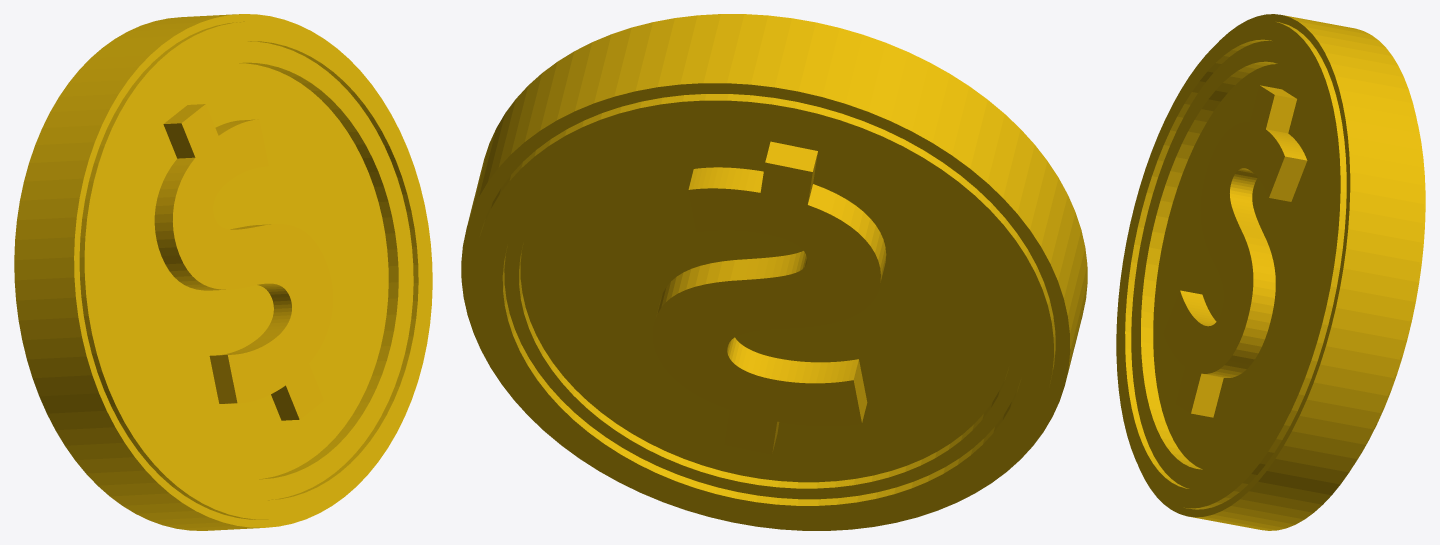
File: Coins2.glb
The picture shows the model from 3 angles, left to right: view 1: azimuth 30°, elevation 25°; view 2: azimuth 150°, elevation 25°; view 3: azimuth 270°, elevation 25°; orthographic projection. The views are drawn at different scales.
Parts seen in each view (by area): view 1: Cylinder, Curve; view 2: Cylinder, Curve.001; view 3: Cylinder, Curve.
Part boxes in pixels (left/top/right/bottom): Cylinder: left=14, top=14, right=432, bottom=530; Curve: left=154, top=104, right=332, bottom=420; Cylinder: left=461, top=14, right=1087, bottom=530; Curve.001: left=653, top=141, right=886, bottom=454; Cylinder: left=1116, top=14, right=1425, bottom=530; Curve: left=1163, top=85, right=1307, bottom=417.
Bounding box in the file's own units: 2 × 2 × 1.21.
